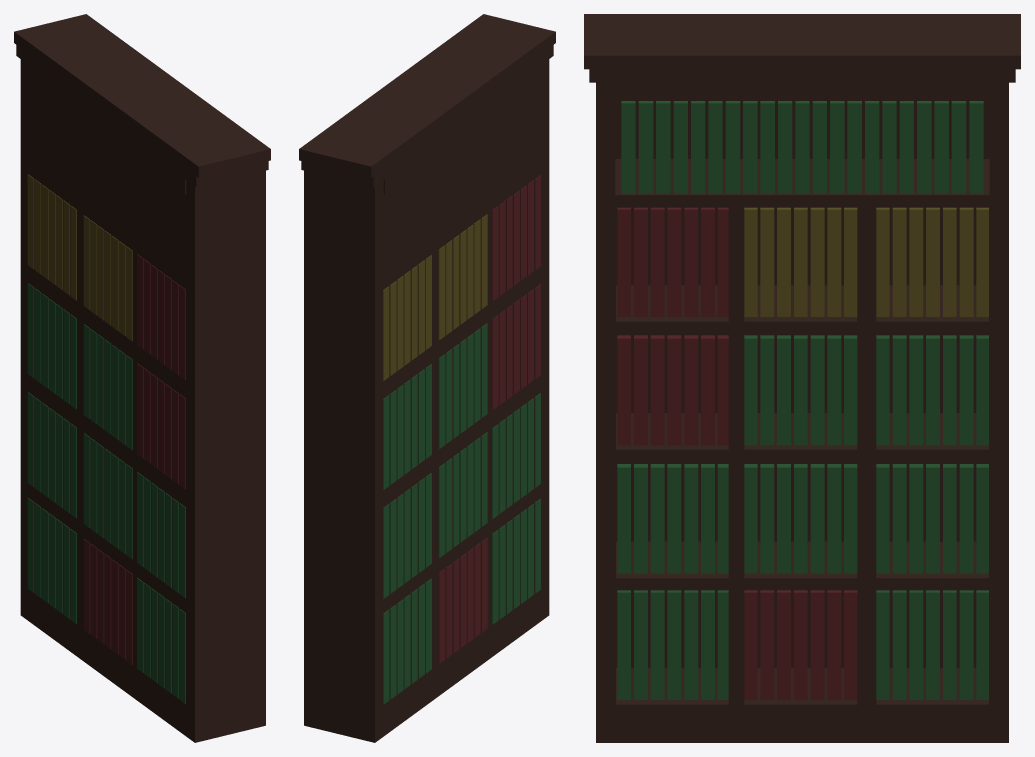
The model's file is bookcase.fbx.
3 views of the same model, side by side, from view 1: azimuth 30°, elevation 25°; view 2: azimuth 150°, elevation 25°; view 3: azimuth 270°, elevation 25° (orthographic). The views are drawn at different scales.
Visible parts, largest first — view 1: Cube.141, Cube.138, Cube.126, Cube.132, Cube.131, Cube.129, Cube.125, Cube.135, Cube.134, Cube.128, Cube.133, Cube.136 (+4 smaller); view 2: Cube.141, Cube.138, Cube.132, Cube.135, Cube.129, Cube.126, Cube.125, Cube.136, Cube.134, Cube.133, Cube.130, Cube.128 (+4 smaller); view 3: Cube.141, Cube.137, Cube.138, Cube.132, Cube.129, Cube.126, Cube.135, Cube.131, Cube.128, Cube.125, Cube.134, Cube.133 (+5 smaller).
Boxes of the visible parts, bbox=[...] form: Cube.141: bbox=[20, 59, 265, 742]; Cube.138: bbox=[14, 14, 270, 177]; Cube.126: bbox=[83, 539, 132, 664]; Cube.132: bbox=[83, 324, 132, 450]; Cube.131: bbox=[27, 283, 76, 409]; Cube.129: bbox=[83, 433, 132, 559]; Cube.125: bbox=[27, 498, 76, 623]; Cube.135: bbox=[83, 215, 132, 341]; Cube.134: bbox=[27, 174, 76, 300]; Cube.128: bbox=[27, 392, 76, 518]; Cube.133: bbox=[137, 363, 185, 489]; Cube.136: bbox=[137, 254, 185, 380]; Cube.141: bbox=[304, 59, 549, 742]; Cube.138: bbox=[299, 14, 555, 177]; Cube.132: bbox=[438, 323, 487, 449]; Cube.135: bbox=[438, 214, 487, 340]; Cube.129: bbox=[438, 432, 487, 558]; Cube.126: bbox=[438, 537, 487, 663]; Cube.125: bbox=[383, 578, 431, 704]; Cube.136: bbox=[492, 175, 540, 301]; Cube.134: bbox=[383, 255, 431, 381]; Cube.133: bbox=[492, 284, 540, 410]; Cube.130: bbox=[492, 393, 540, 518]; Cube.128: bbox=[383, 473, 431, 598]; Cube.141: bbox=[596, 82, 1008, 742]; Cube.137: bbox=[621, 101, 983, 193]; Cube.138: bbox=[584, 14, 1020, 69]; Cube.132: bbox=[744, 335, 857, 445]; Cube.129: bbox=[744, 464, 857, 573]; Cube.126: bbox=[744, 590, 857, 699]; Cube.135: bbox=[744, 207, 857, 316]; Cube.131: bbox=[876, 335, 988, 445]; Cube.128: bbox=[876, 464, 988, 573]; Cube.125: bbox=[876, 590, 988, 699]; Cube.134: bbox=[876, 207, 988, 316]; Cube.133: bbox=[617, 335, 728, 445].
Bounding box in the file's own units: 332 × 2541 × 1464.
